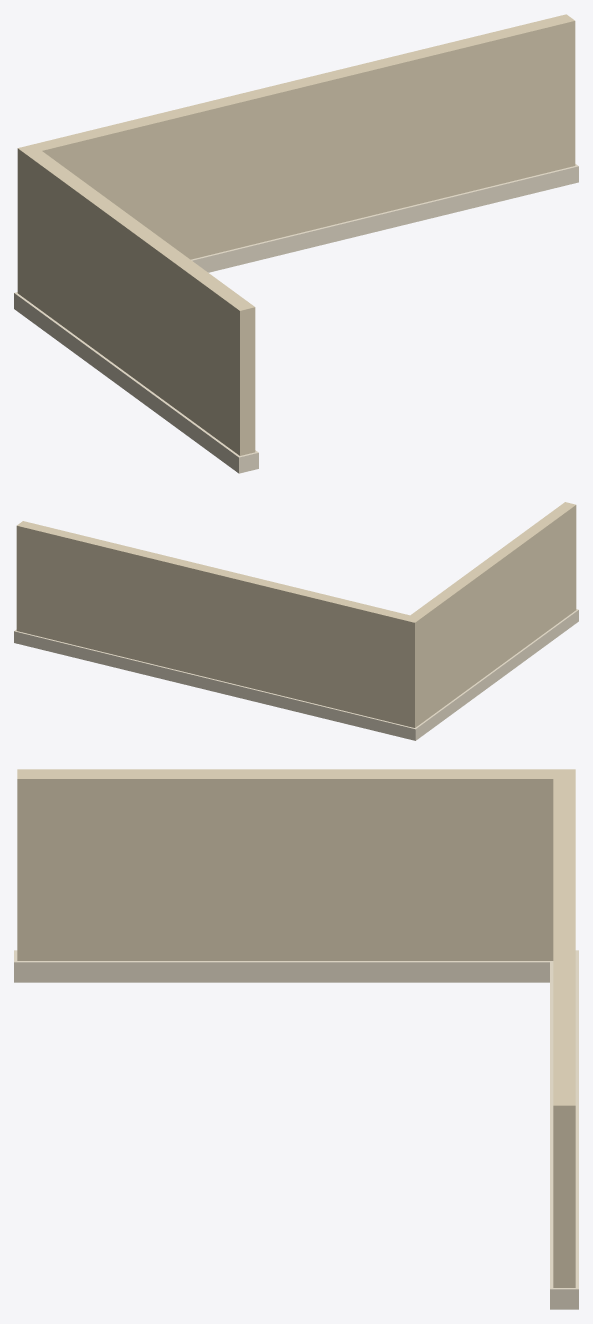
Rendered from Mesh_Wall_L_Large.fbx.
The picture shows the model from 3 angles, top to bottom: view 1: azimuth 30°, elevation 25°; view 2: azimuth 150°, elevation 25°; view 3: azimuth 270°, elevation 25°; orthographic projection. The views are drawn at different scales.
Parts seen in each view (by area): view 1: Wall_L; view 2: Wall_L; view 3: Wall_L.
Part boxes in pixels (x1=…): Wall_L: x1=14, y1=14, x2=578, y2=473; Wall_L: x1=14, y1=502, x2=578, y2=740; Wall_L: x1=14, y1=769, x2=578, y2=1309.
Bounding box in the file's own units: 719 × 200 × 506.
